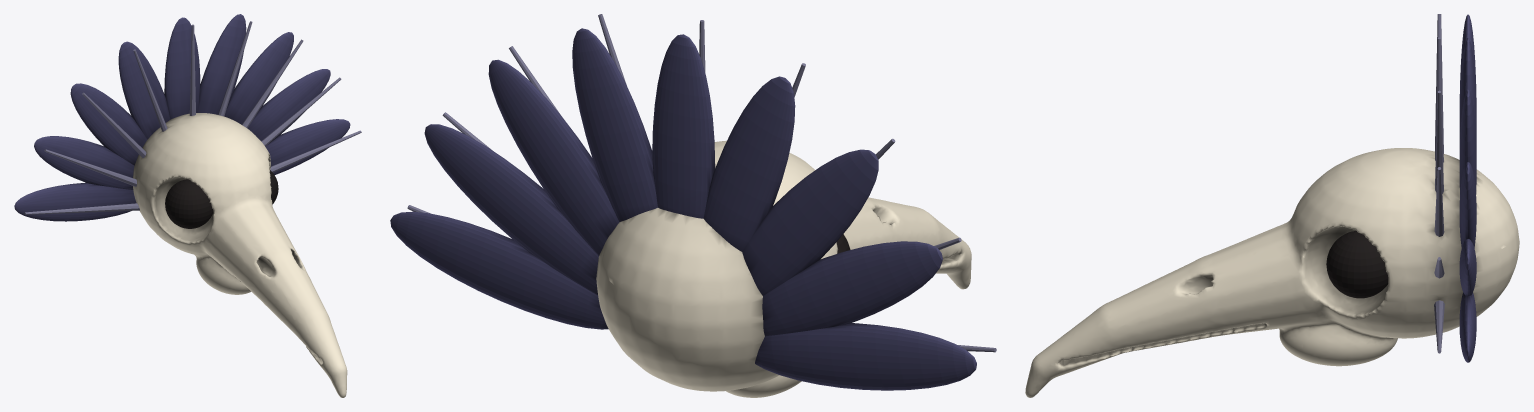
Rendered from emb_corvo.glb.
3 renders of one model, left to right at view 1: azimuth 30°, elevation 25°; view 2: azimuth 150°, elevation 25°; view 3: azimuth 270°, elevation 25°, orthographic. The views are drawn at different scales.
Parts seen in each view (by area): view 1: emb_corvo; view 2: emb_corvo; view 3: emb_corvo.
Boxes of the visible parts, x1,y1,x2,y2 form: emb_corvo: (14,14,361,397); emb_corvo: (390,14,996,397); emb_corvo: (1025,14,1519,397).
Bounding box in the file's own units: 0.1479 × 0.1103 × 0.1377.
